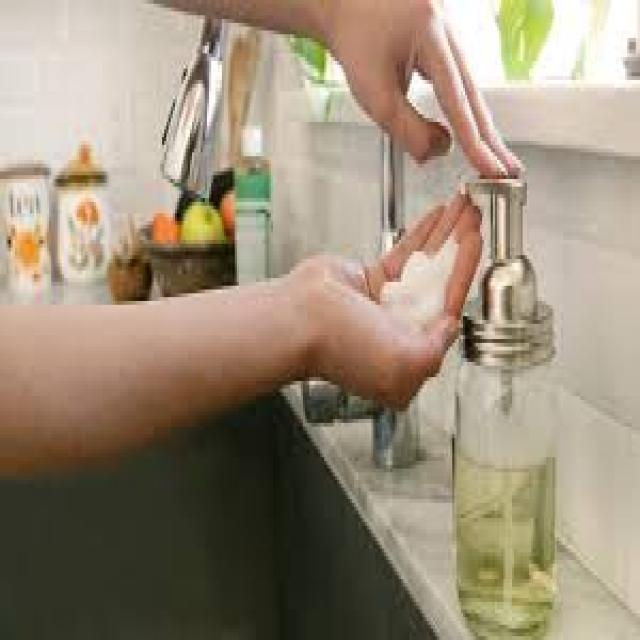liquid soap: (442, 152, 568, 640)
